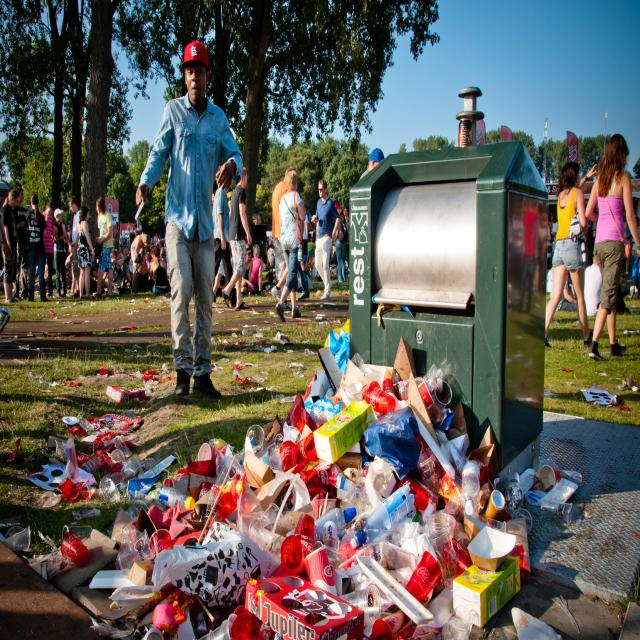cardboard: (248, 582, 332, 634)
metal: (360, 160, 515, 364)
plastic: (337, 453, 410, 568)
